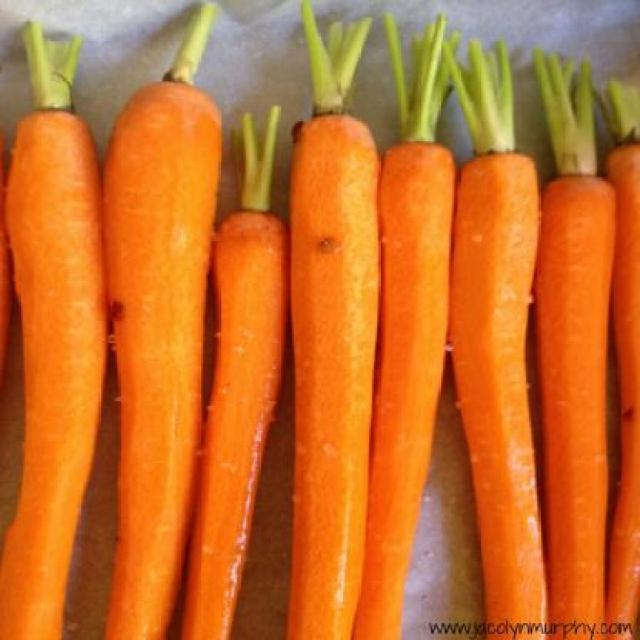carrot: (105, 84, 216, 640), (10, 112, 116, 640), (452, 151, 556, 640), (284, 114, 378, 640), (526, 169, 622, 640), (186, 206, 286, 640), (372, 132, 446, 640)
